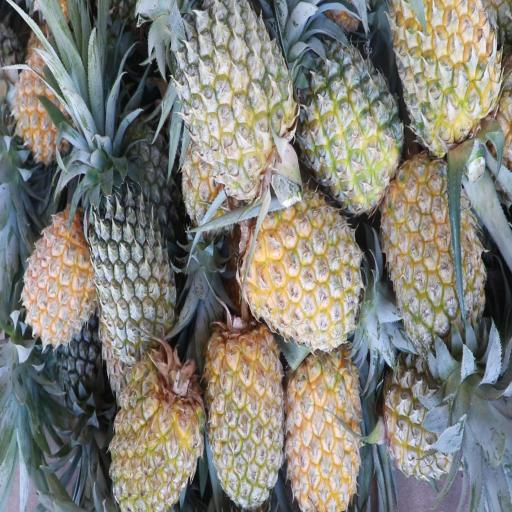------------------------------: (182, 0, 298, 183), (306, 42, 403, 206), (384, 357, 470, 481)
Pineapple - v8 v1: (387, 162, 488, 341), (252, 186, 363, 341), (396, 0, 507, 143), (208, 321, 287, 500), (114, 357, 205, 508), (290, 342, 364, 508), (24, 210, 97, 345), (12, 40, 85, 160)
